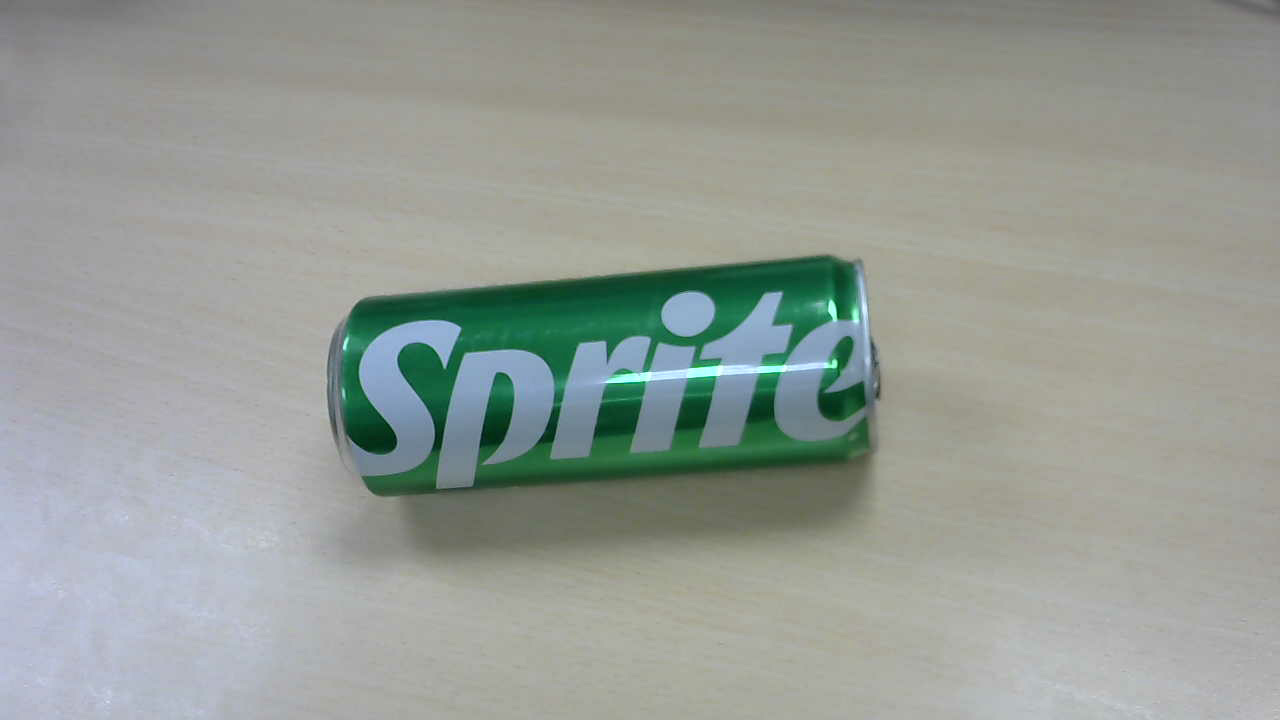Sprite: (331, 253, 886, 506)
